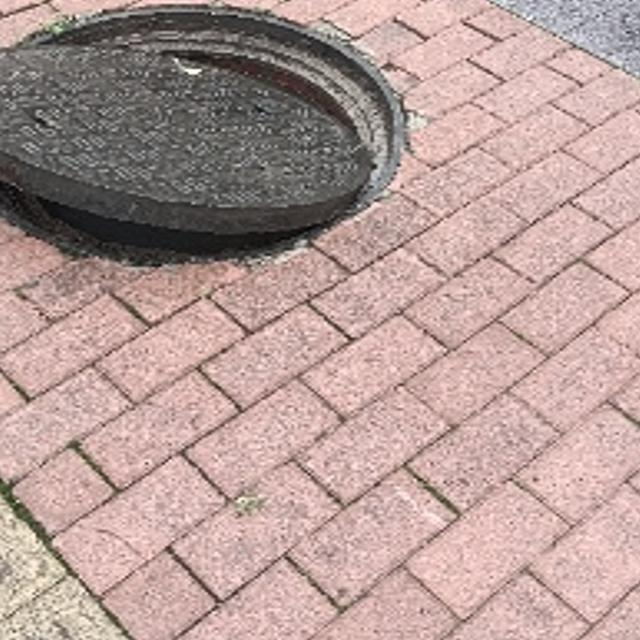uncovered: (0, 4, 404, 269)
